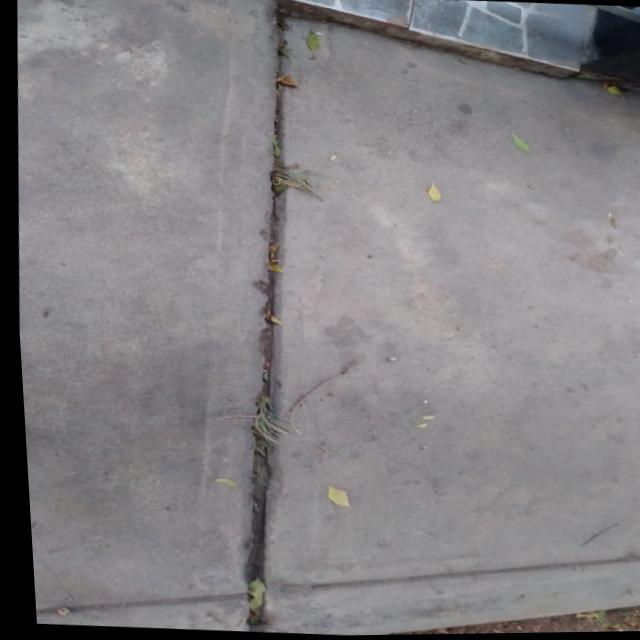hole: (214, 345, 295, 633)
